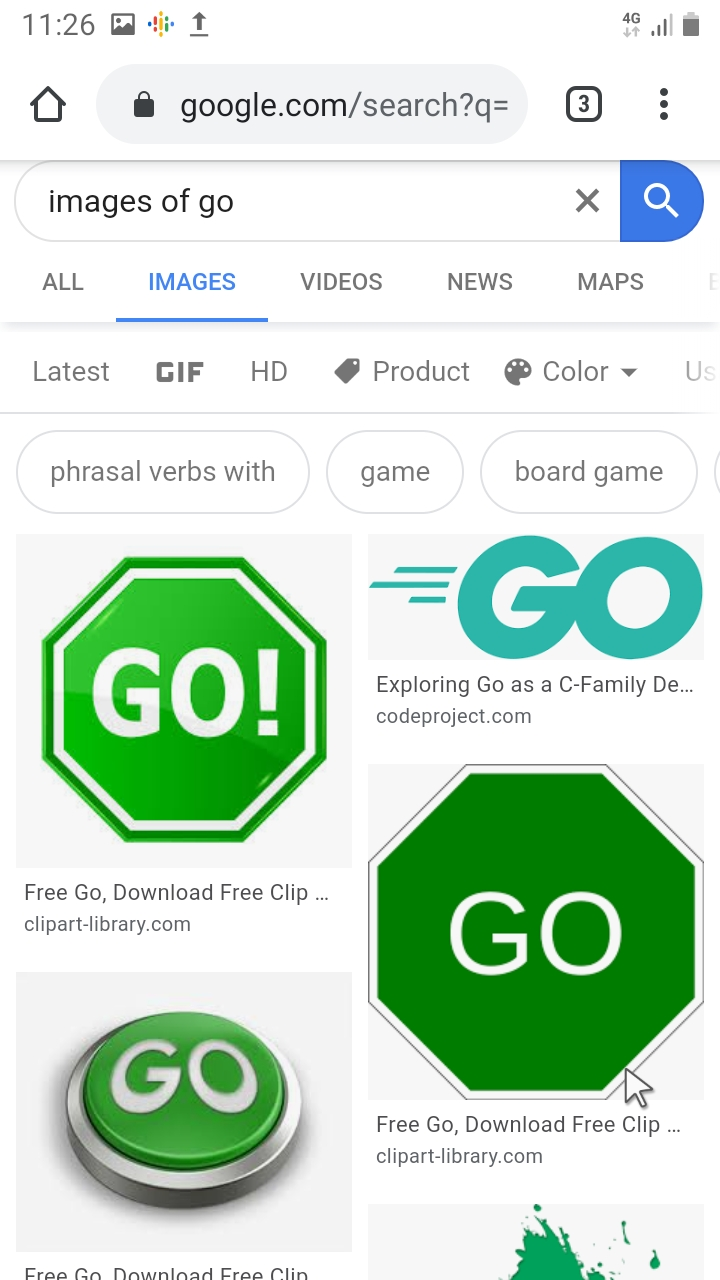go: (368, 768, 684, 1098), (27, 545, 335, 855), (70, 1000, 288, 1170), (459, 531, 719, 663)
